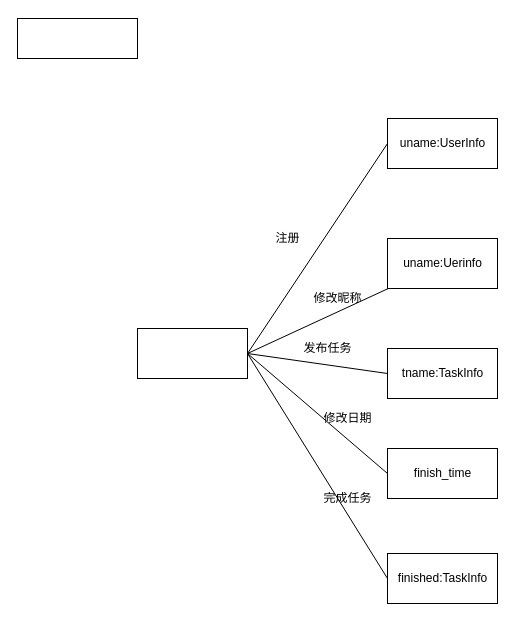
This 515x621 diagram has some shape labels left out. Here are the shapes that lost their labels. From the top down, the centre of each, then its label:
the point at 77,38: 对象图
the point at 192,353: 用户：UserInfo
